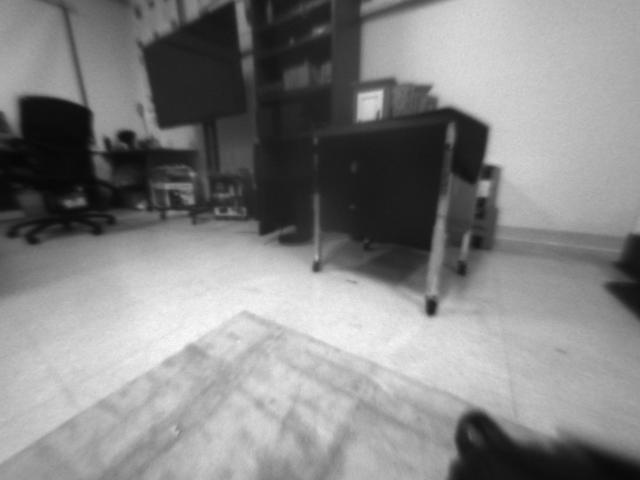coffee_cup: (391, 84, 414, 119)
